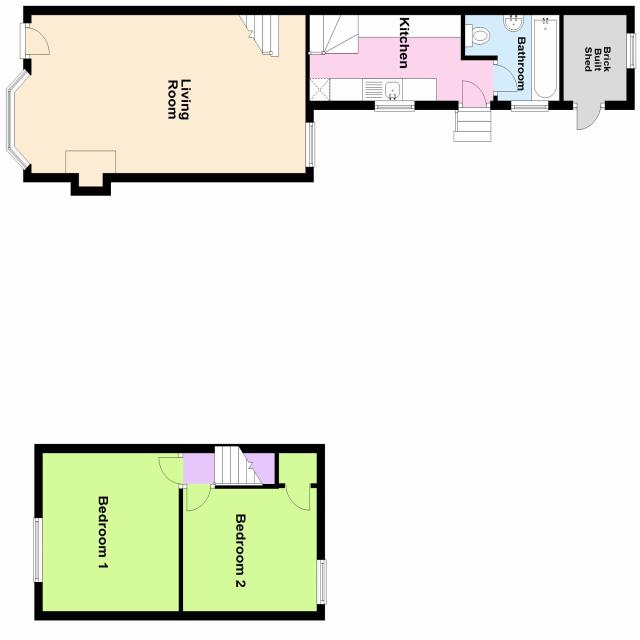DOOR: (284, 482, 312, 513), (575, 102, 603, 131), (157, 456, 184, 485), (24, 27, 51, 56), (461, 80, 488, 109), (493, 63, 519, 93), (186, 483, 212, 512)
ROOM: (3, 4, 314, 195), (305, 6, 519, 142), (32, 443, 184, 621), (178, 483, 327, 621), (559, 5, 637, 131)
WINDOW: (32, 517, 44, 584), (5, 68, 31, 94), (5, 145, 31, 171), (6, 88, 15, 151), (510, 99, 550, 112), (316, 559, 327, 605), (305, 122, 316, 168), (374, 100, 416, 112), (625, 31, 637, 70)
